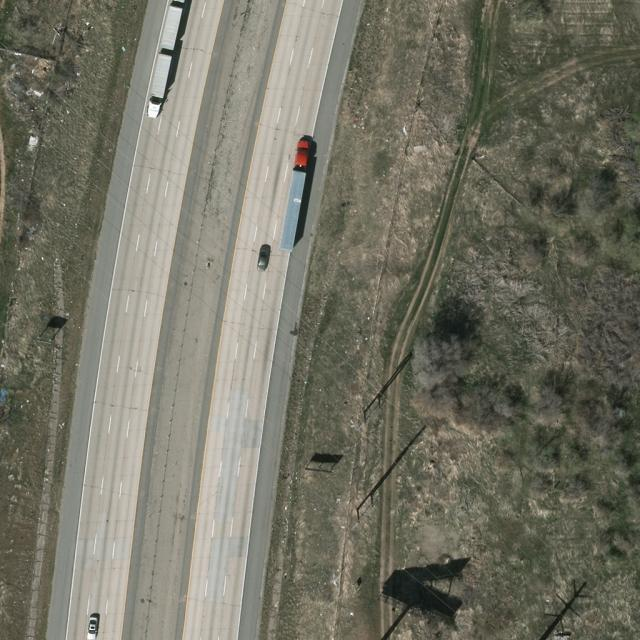vehicle: (280, 138, 312, 254), (144, 52, 174, 120), (256, 245, 272, 272), (88, 617, 99, 640)
